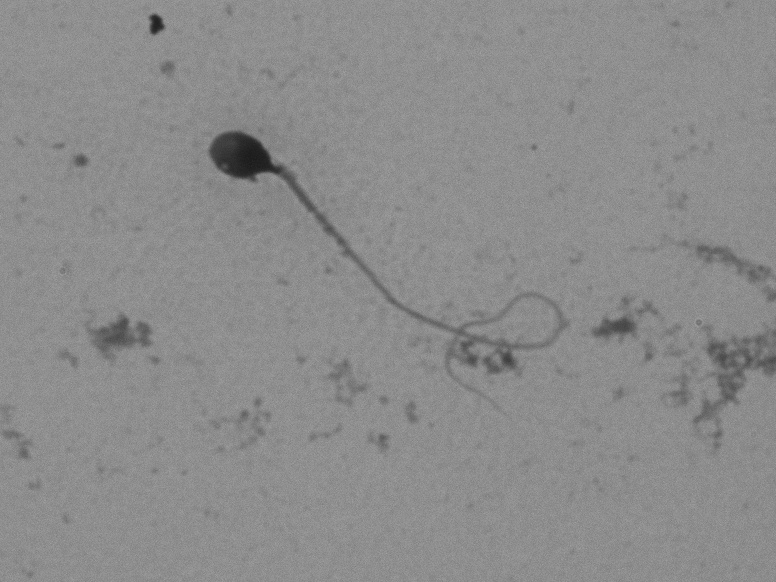Abnormal: (179, 106, 574, 463)
